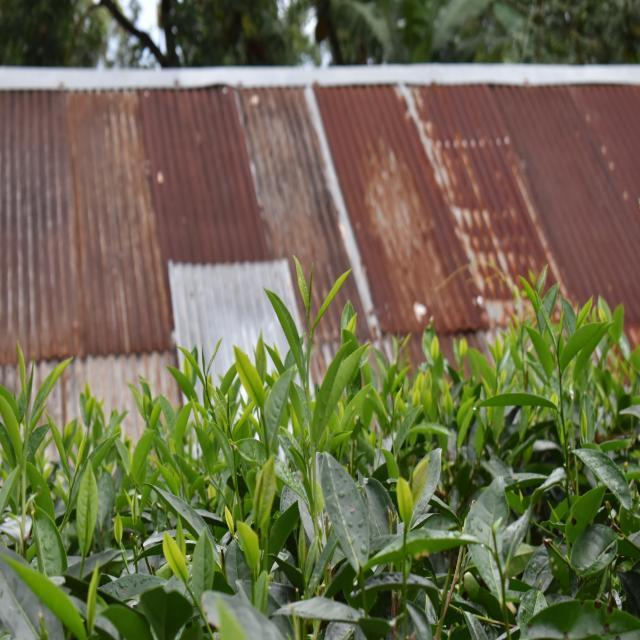Stem: (25, 426, 30, 438), (307, 313, 310, 321), (69, 486, 72, 493), (557, 351, 560, 356), (205, 376, 207, 382)
